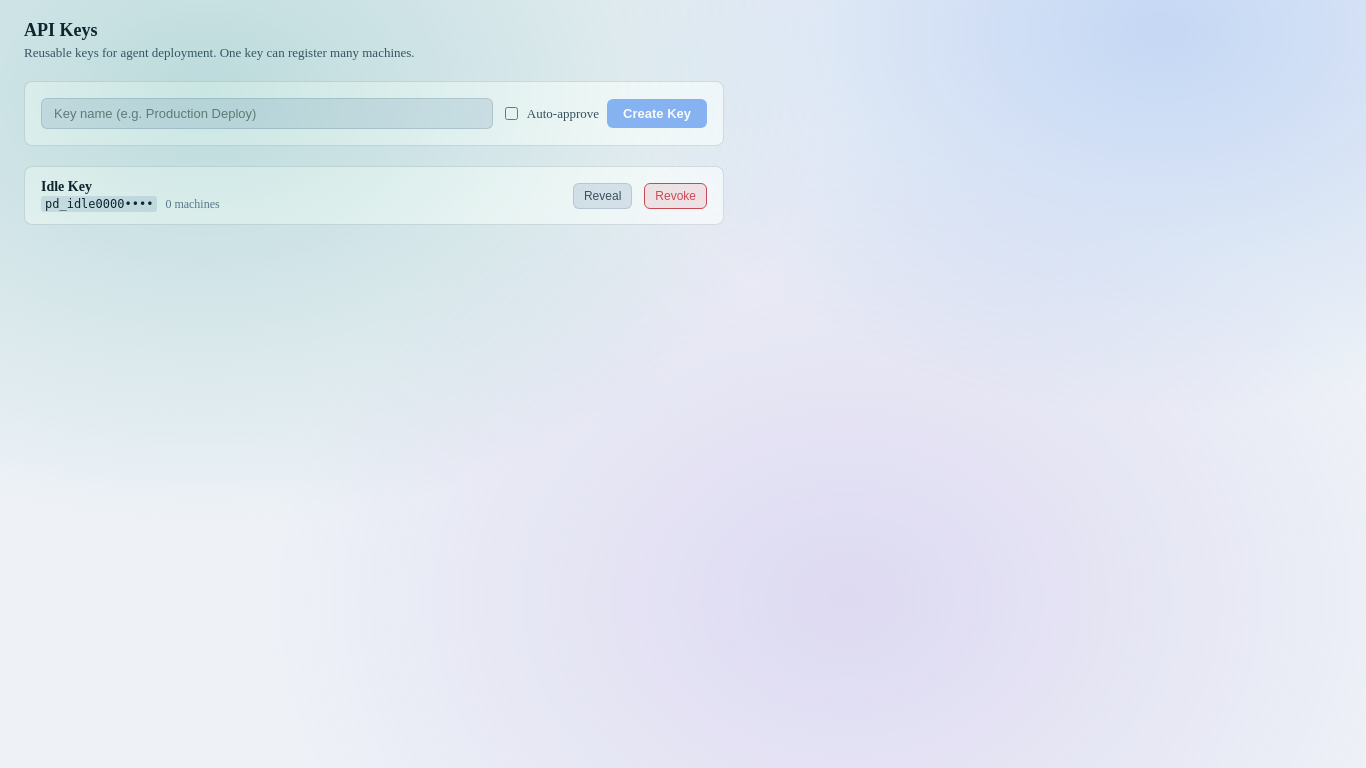
revoking an API key › asks for confirmation on a key with no machines
The image size is (1366, 768).
Step 1. Click the button "Revoke" → (676, 196), box [644,182,707,208]
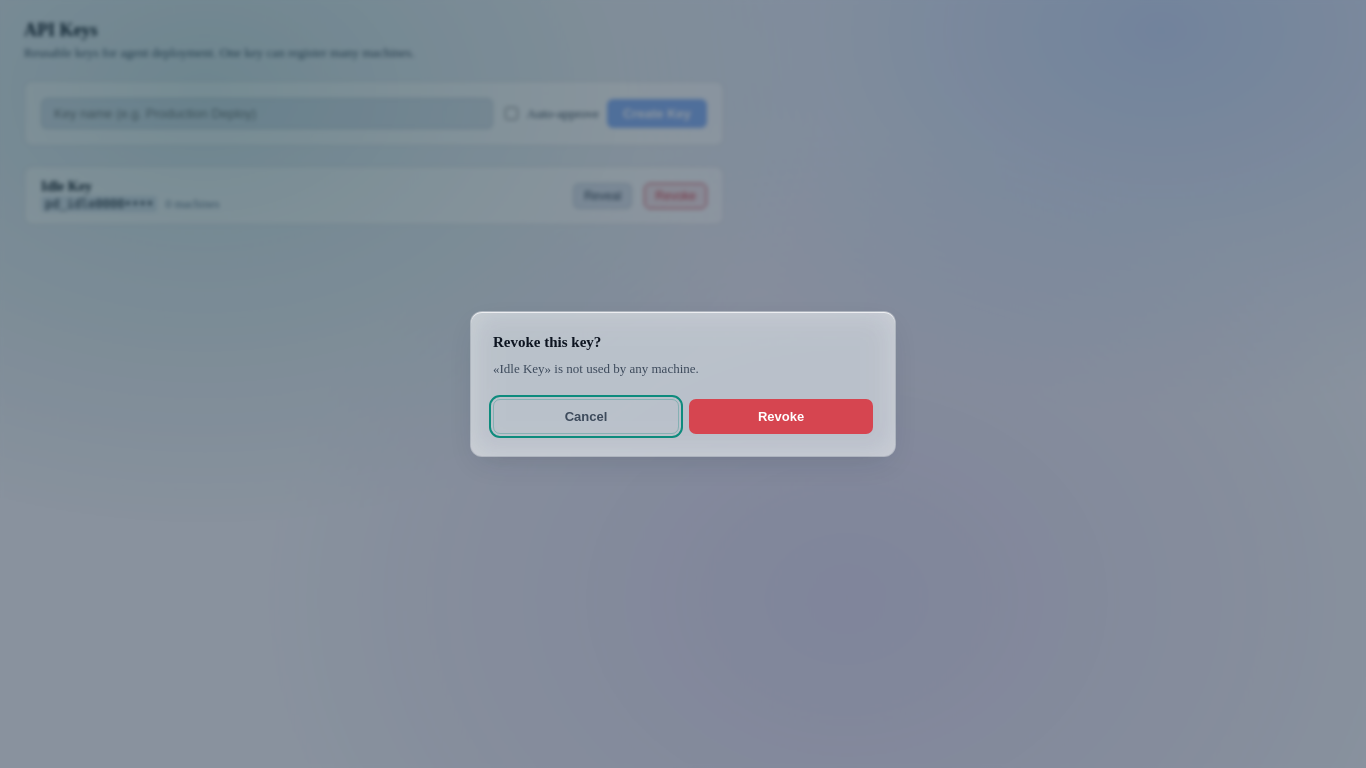
expect the dialog is shown: met, box [470,311,896,457]
expect the dialog shows "Idle Key": met, box [493,361,699,376]
expect the dialog shows "is not used by any machine": met, box [493,361,699,376]
